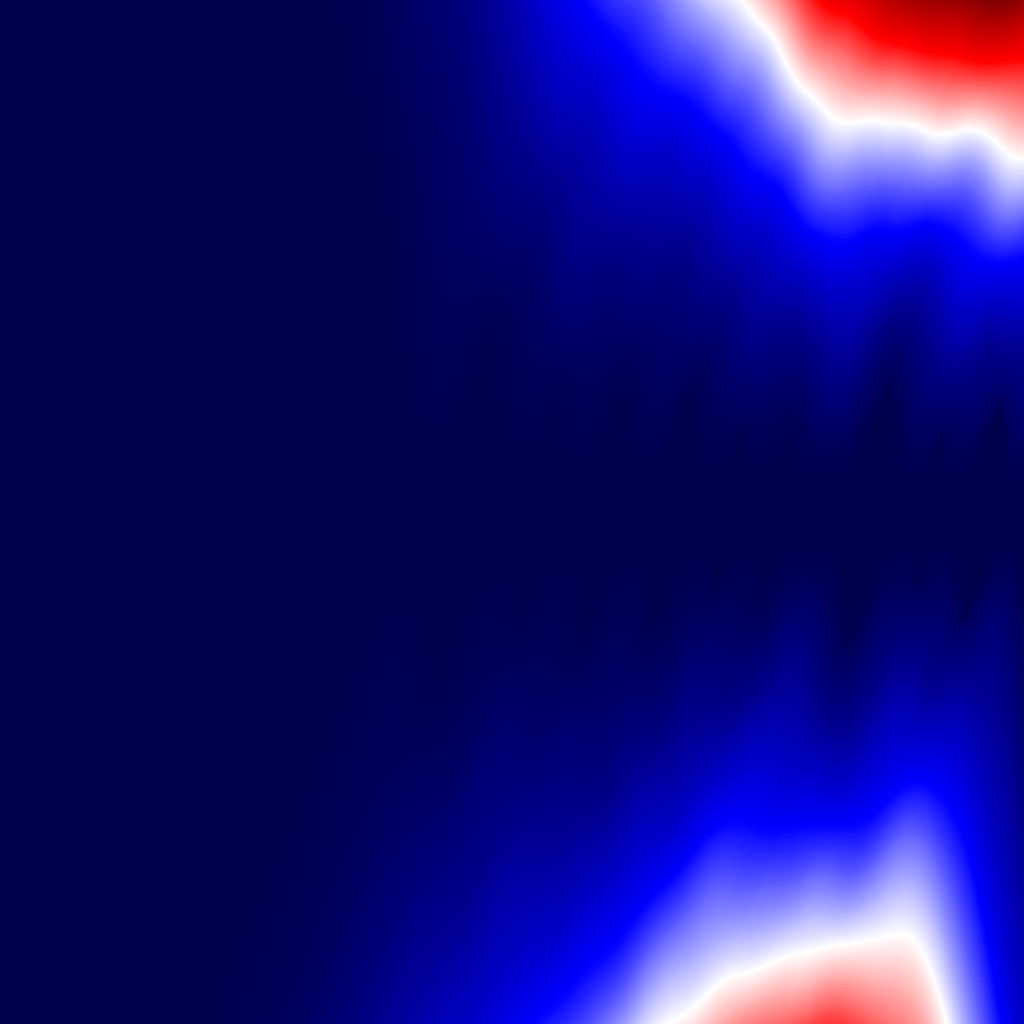diamond: (256, 213, 419, 811), (419, 338, 514, 686), (835, 376, 909, 648), (573, 389, 640, 635), (640, 389, 707, 635), (954, 395, 1018, 629), (515, 406, 573, 618), (708, 423, 756, 601), (756, 425, 803, 599), (910, 431, 954, 593), (803, 455, 834, 569)
